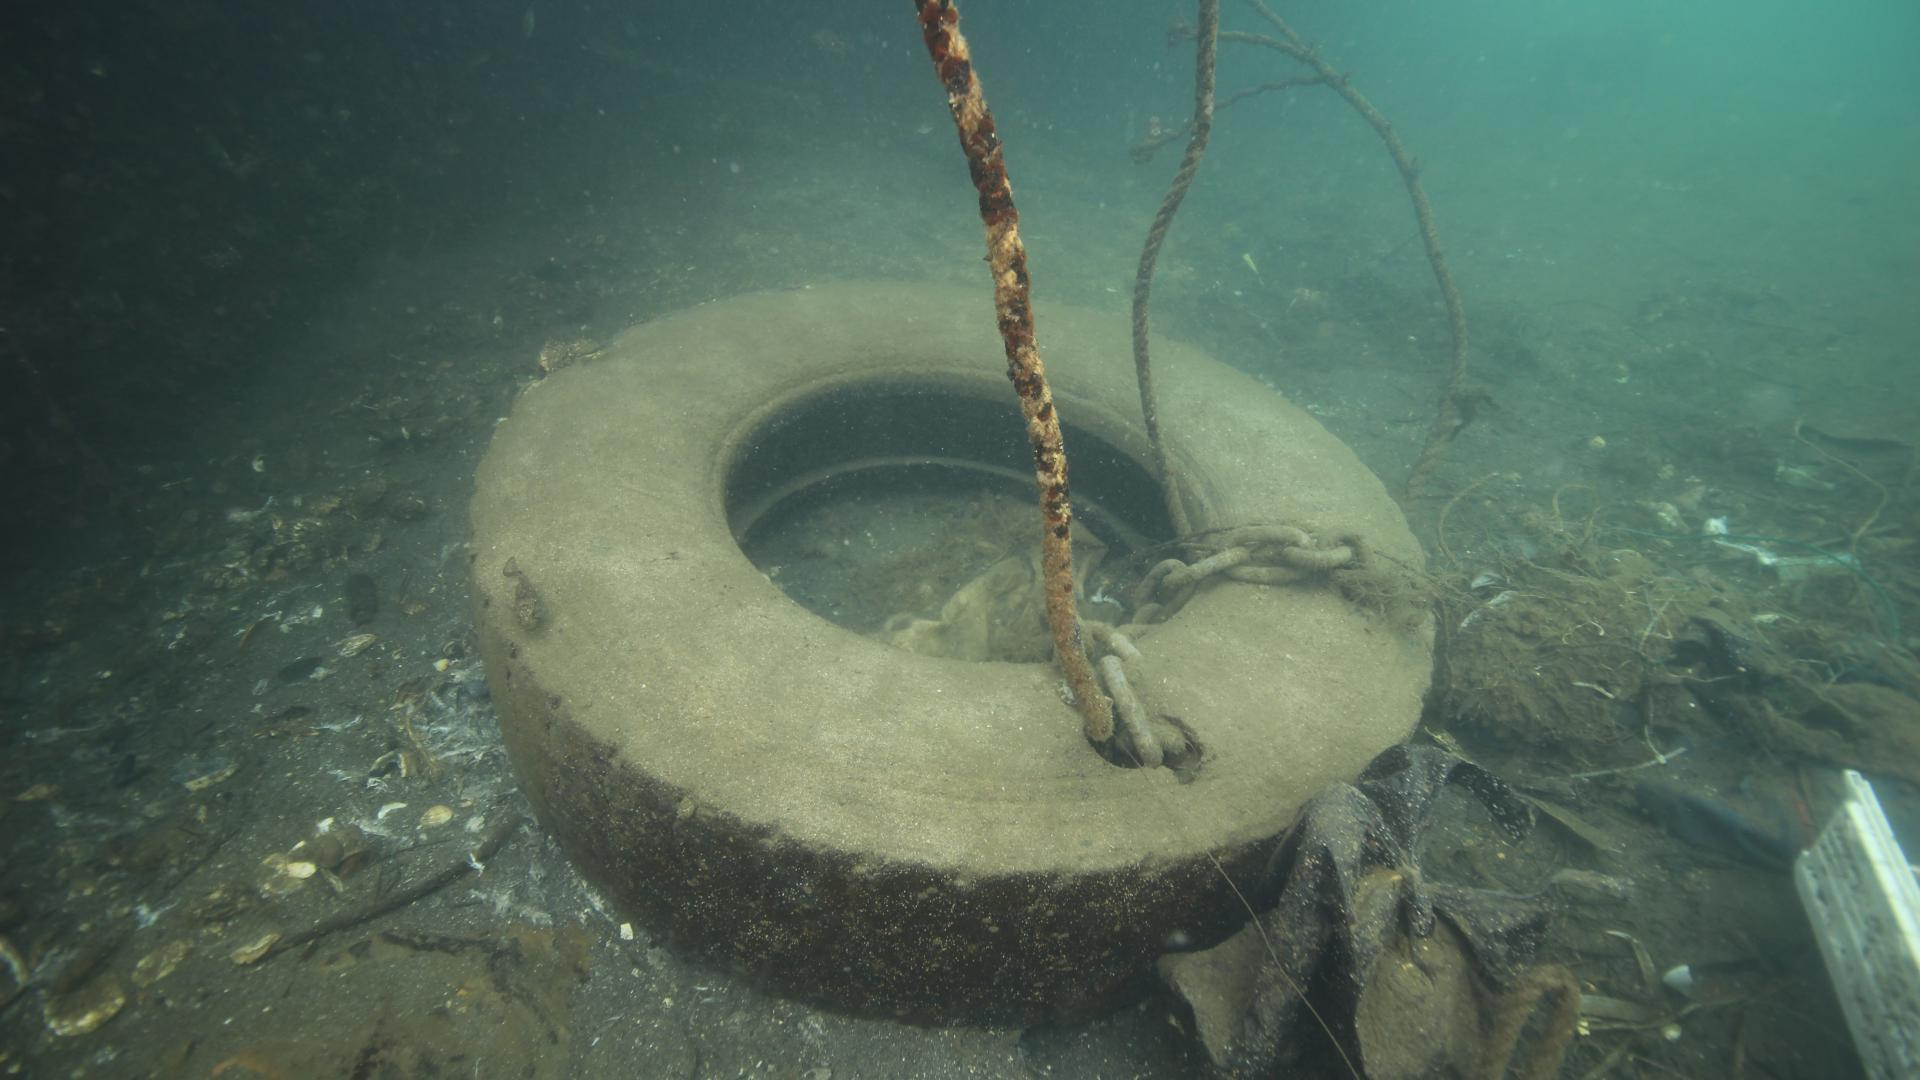rope: (1323, 61, 1470, 520), (1127, 0, 1221, 556), (1474, 959, 1578, 1080)
tire: (462, 276, 1437, 1015)
